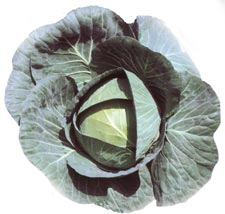cabbage: (63, 36, 183, 179)
